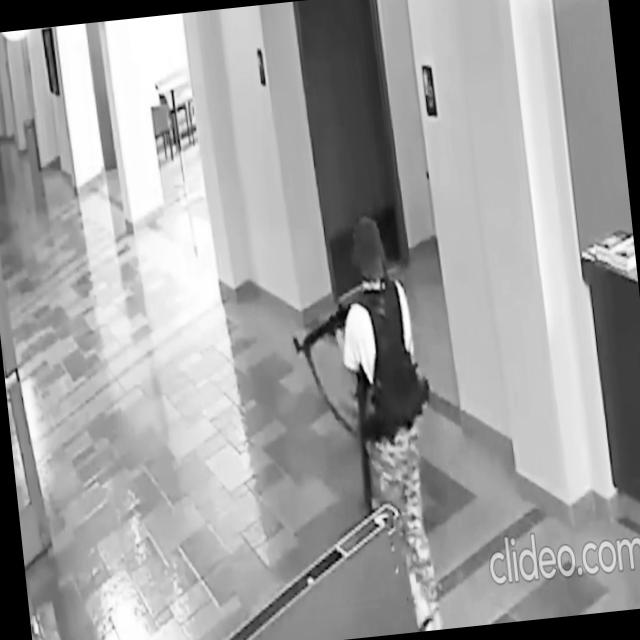gun: (344, 352, 382, 524), (287, 294, 363, 359)
person with a gun: (280, 207, 452, 640)
